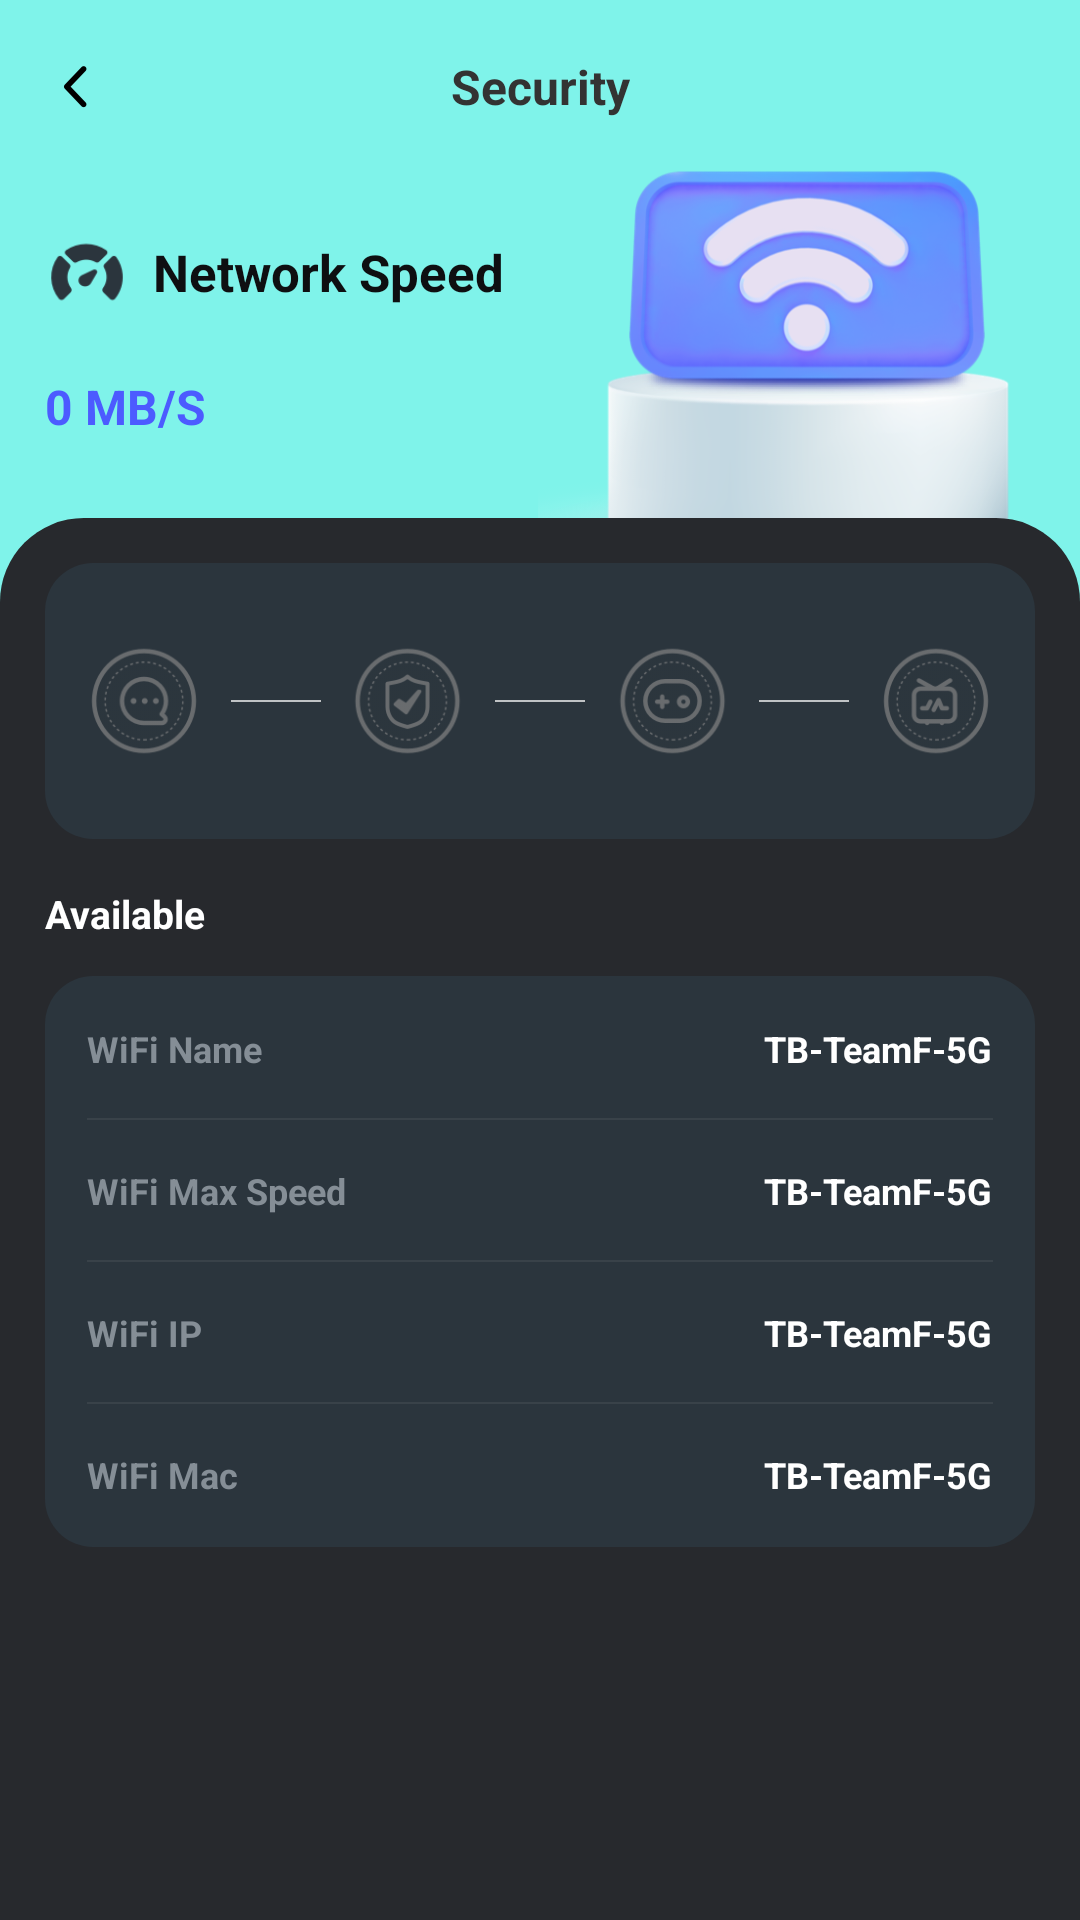

Named icons in this screenshot (1080×1920) and their bounding boxes, (x1, y1, x2, y2):
back: (64, 66, 87, 108)
